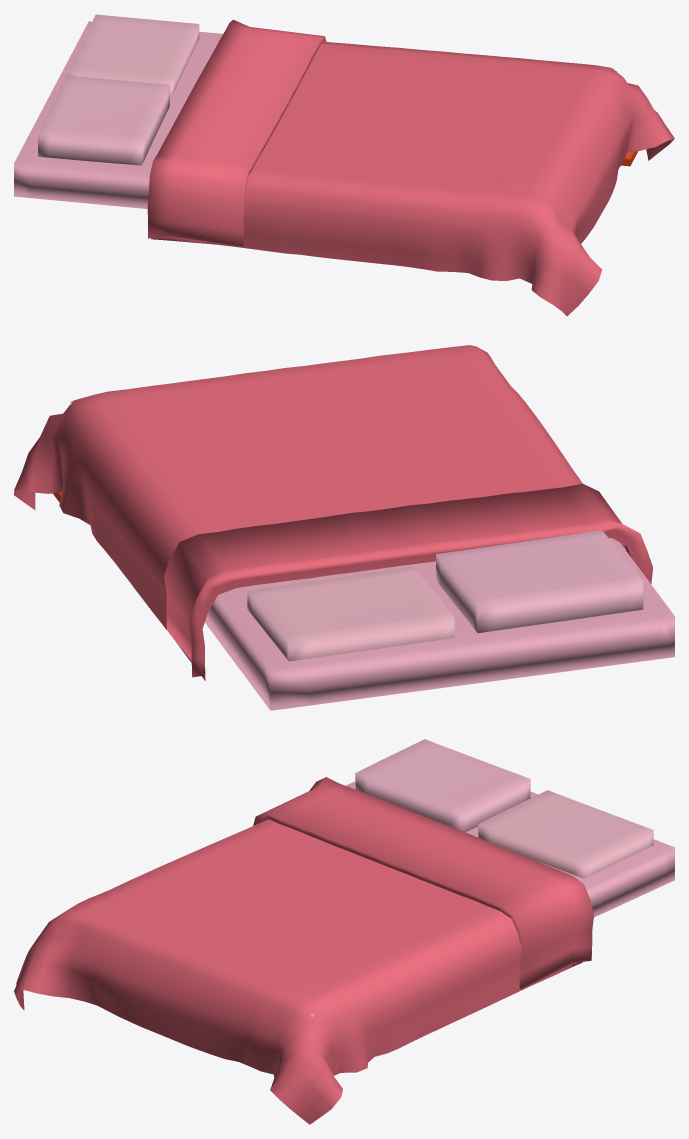
Rendered from bed1AAAAAAR.glb.
3 views of the same model, one above another, from view 1: azimuth 30°, elevation 25°; view 2: azimuth 150°, elevation 25°; view 3: azimuth 270°, elevation 25° (orthographic). The views are drawn at different scales.
Visible parts, largest first — view 1: Plane, Cube.005, Cube.001, Cube.002; view 2: Plane, Cube.001, Cube.005, Cube.002; view 3: Plane, Cube.005, Cube.002, Cube.001.
Part boxes in pixels (x1,y1,x2,y2): Plane: [147, 19, 674, 316]; Cube.005: [38, 75, 169, 165]; Cube.001: [14, 21, 617, 208]; Cube.002: [67, 14, 199, 97]; Plane: [14, 345, 652, 680]; Cube.001: [70, 401, 674, 710]; Cube.005: [436, 530, 643, 633]; Cube.002: [247, 566, 454, 661]; Plane: [14, 777, 593, 1124]; Cube.005: [355, 739, 530, 832]; Cube.002: [478, 790, 653, 878]; Cube.001: [310, 781, 674, 1017].
Size of the model in its own units: 0.5508 by 0.1069 by 0.5405.
